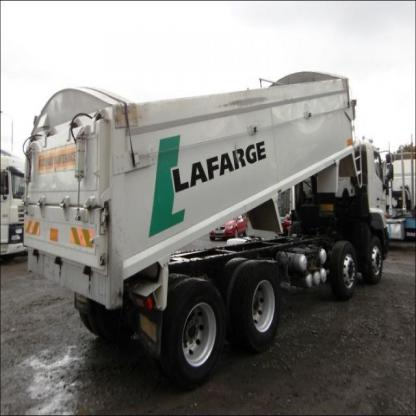dump_truck: (25, 64, 394, 388)
